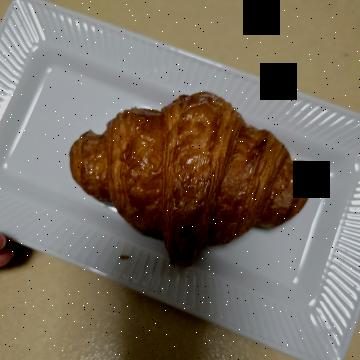croissant: (80, 32, 275, 287)
